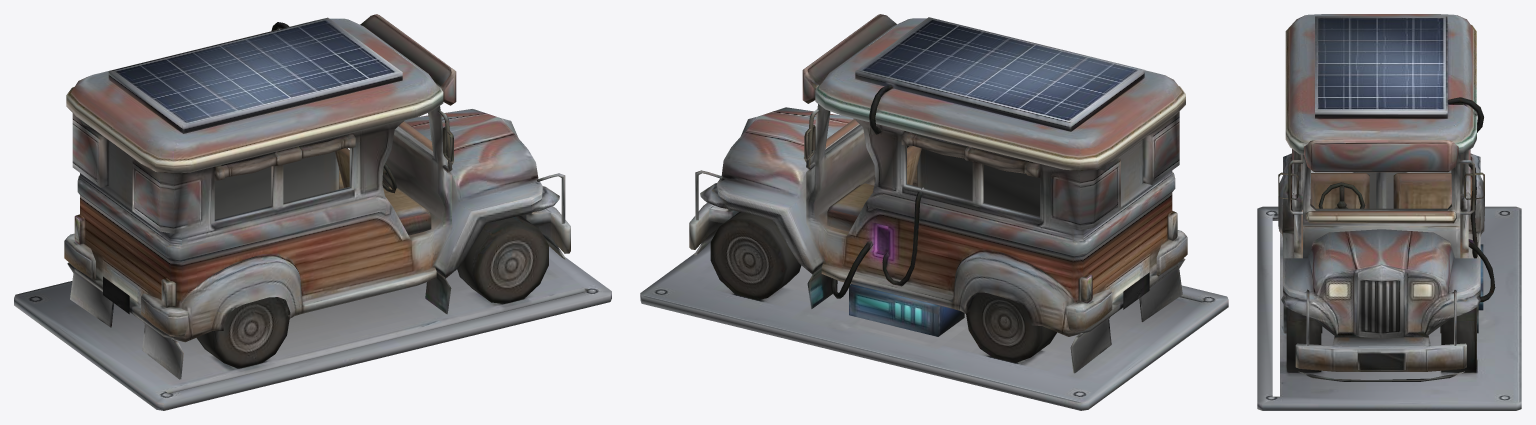
The model's file is city_jeepney.glb.
The picture shows the model from 3 angles, left to right: view 1: azimuth 30°, elevation 25°; view 2: azimuth 150°, elevation 25°; view 3: azimuth 270°, elevation 25°; orthographic projection. The views are drawn at different scales.
Visible parts, largest first — view 1: Body; view 2: Body; view 3: Body.
Part boxes in pixels (<box>): Body: <box>14,14,611,410</box>; Body: <box>640,14,1228,410</box>; Body: <box>1257,14,1521,410</box>.
Size of the model in its own units: 6 by 3.14 by 3.39.
1 material, 1 textured.
